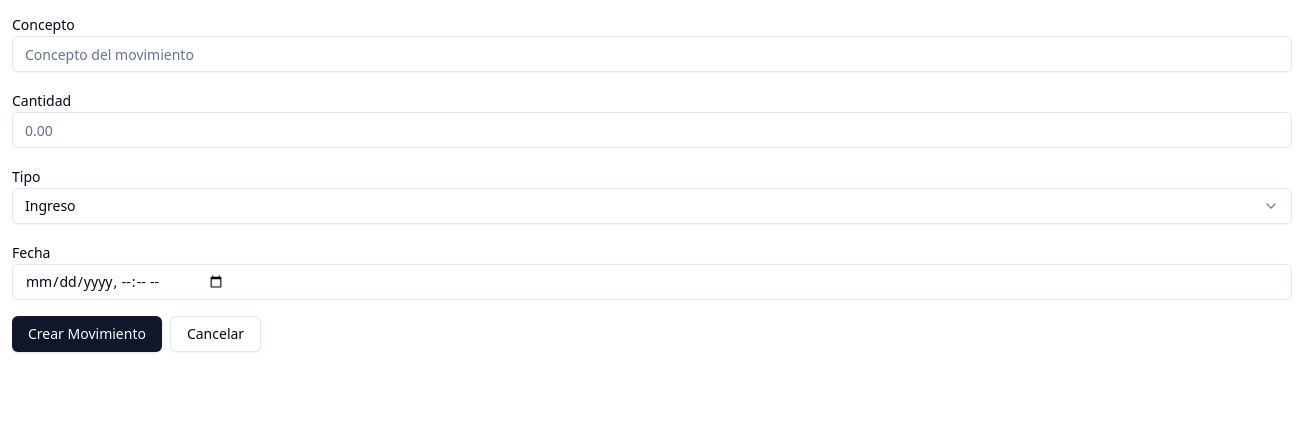
Test: MovementForm Component › Create Mode › should validate minimum amount
This screenshot has width=1304, height=442.
Type "0" into the number field labelled "Cantidad" at (652, 130), box [12, 112, 1292, 148]
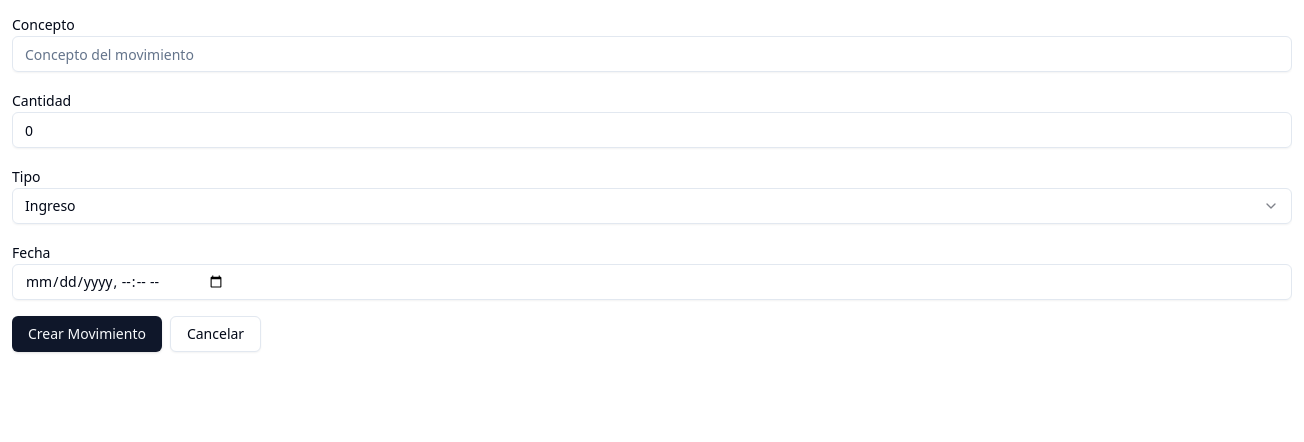
Click the button "Crear Movimiento" at (87, 334), box [12, 316, 162, 352]
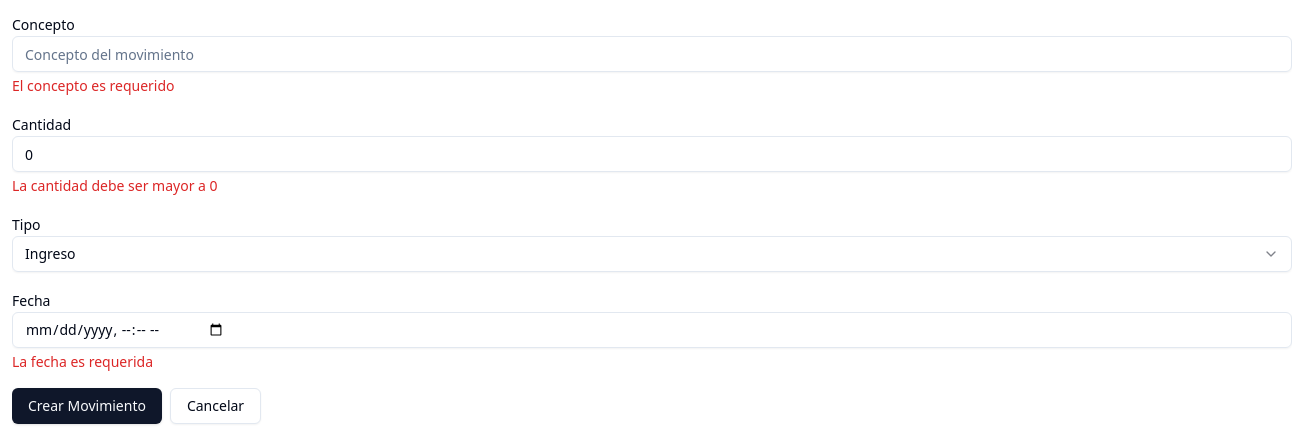
Now the text "La cantidad debe ser mayor a 0" is shown, box [12, 176, 218, 195]
